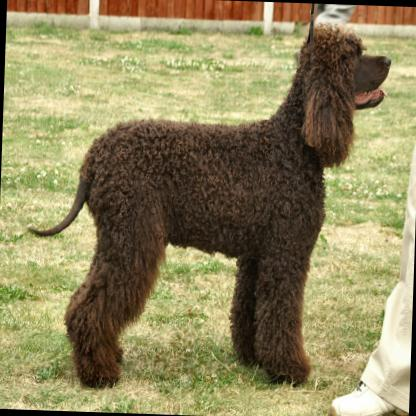Irish_water_spaniel: (23, 14, 391, 396)
